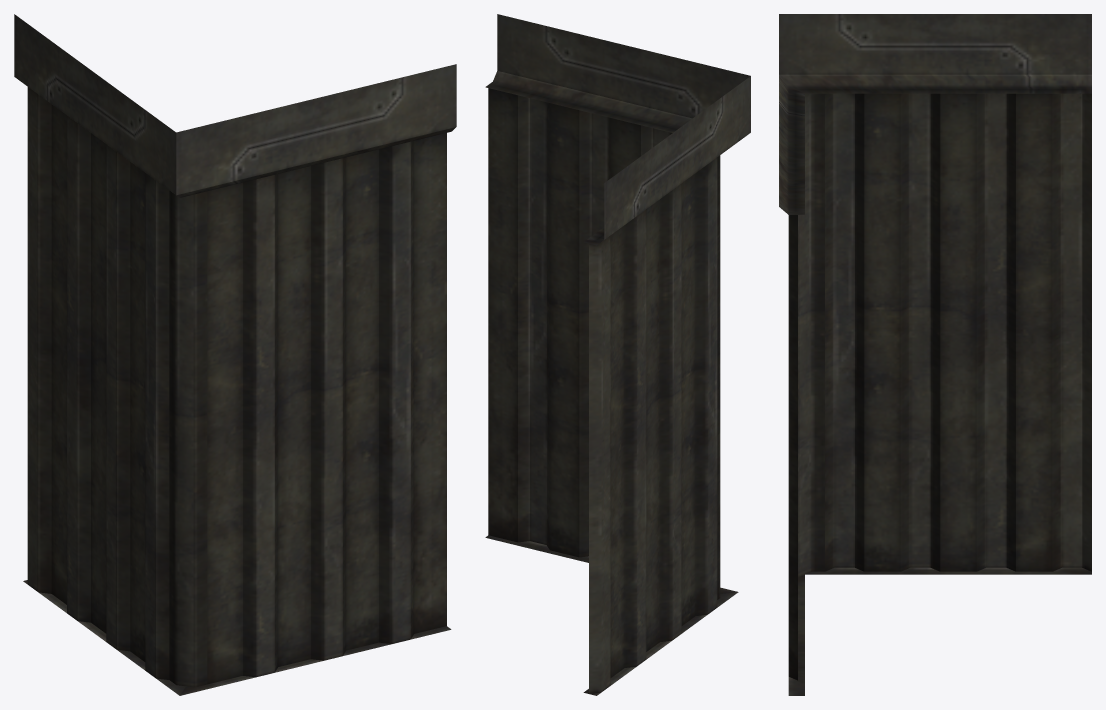
The model's file is pplant_bulkhead_convex_short.dae.
The picture shows the model from 3 angles, left to right: view 1: azimuth 30°, elevation 25°; view 2: azimuth 150°, elevation 25°; view 3: azimuth 270°, elevation 25°; orthographic projection. The views are drawn at different scales.
Parts seen in each view (by area): view 1: bulkhead_convex_short; view 2: bulkhead_convex_short; view 3: bulkhead_convex_short.
Part boxes in pixels (x1=…): bulkhead_convex_short: x1=14, y1=14, x2=456, y2=695; bulkhead_convex_short: x1=485, y1=14, x2=750, y2=695; bulkhead_convex_short: x1=779, y1=14, x2=1091, y2=695.
Bounding box in the file's own units: 2.06 × 4 × 2.06.
